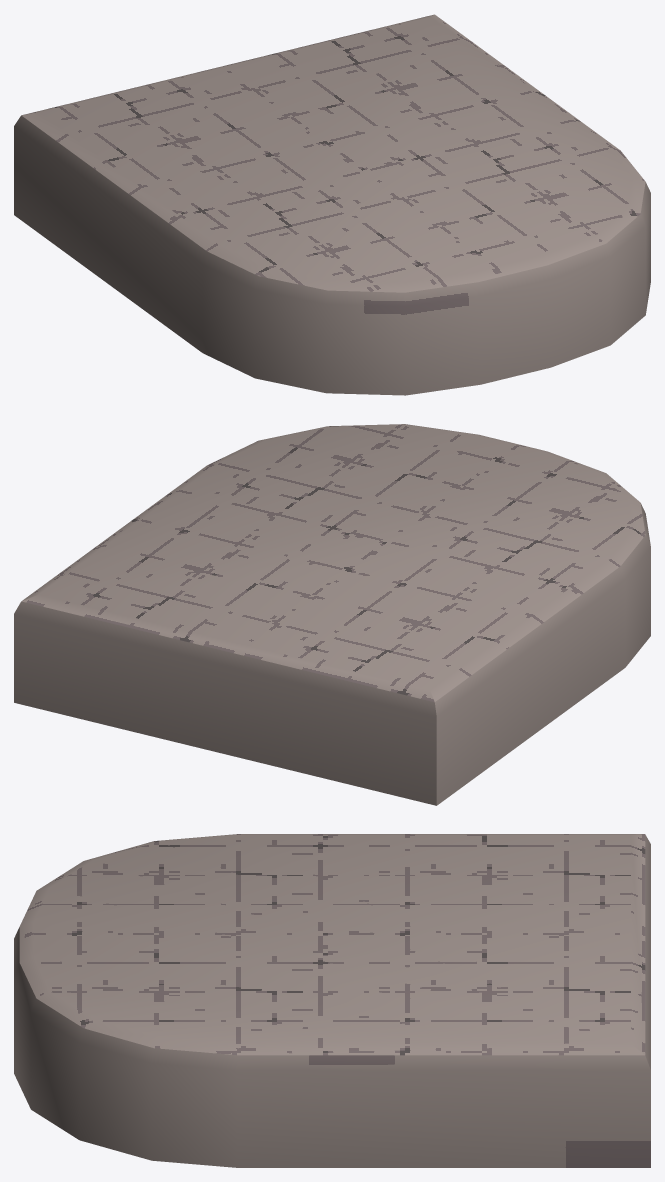
Rendered from rounded_platform.fbx.
3 views of the same model, one above another, from view 1: azimuth 30°, elevation 25°; view 2: azimuth 150°, elevation 25°; view 3: azimuth 270°, elevation 25° (orthographic). The views are drawn at different scales.
Visible parts, largest first — view 1: Cube; view 2: Cube; view 3: Cube.
Boxes of the visible parts, x1,y1,x2,y2 form: Cube: [14, 14, 650, 395]; Cube: [14, 424, 650, 805]; Cube: [14, 834, 650, 1167].
Size of the model in its own units: 420 by 100 by 500.
